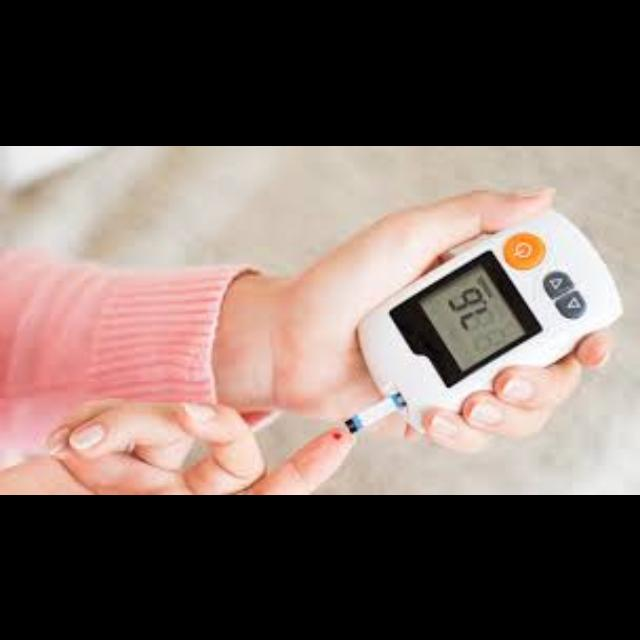Glucose-Meter: (350, 210, 621, 429)
